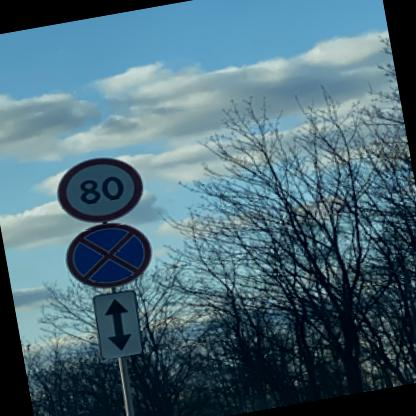speedlimit: (50, 150, 146, 228)
